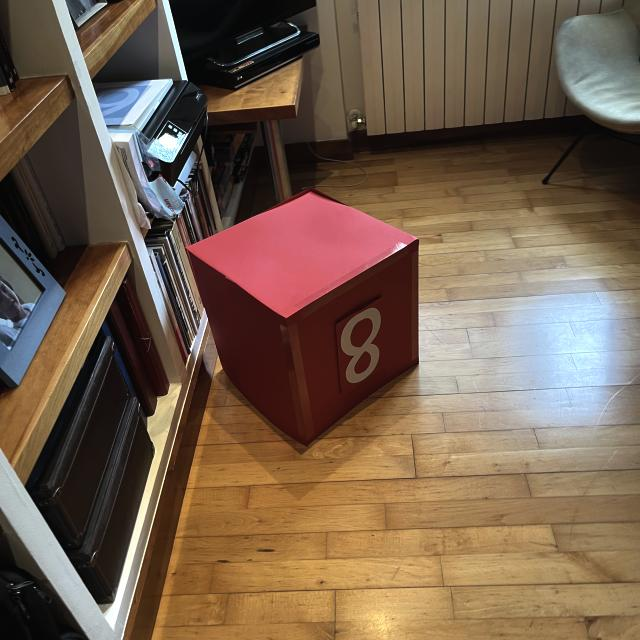box: (184, 184, 424, 447)
